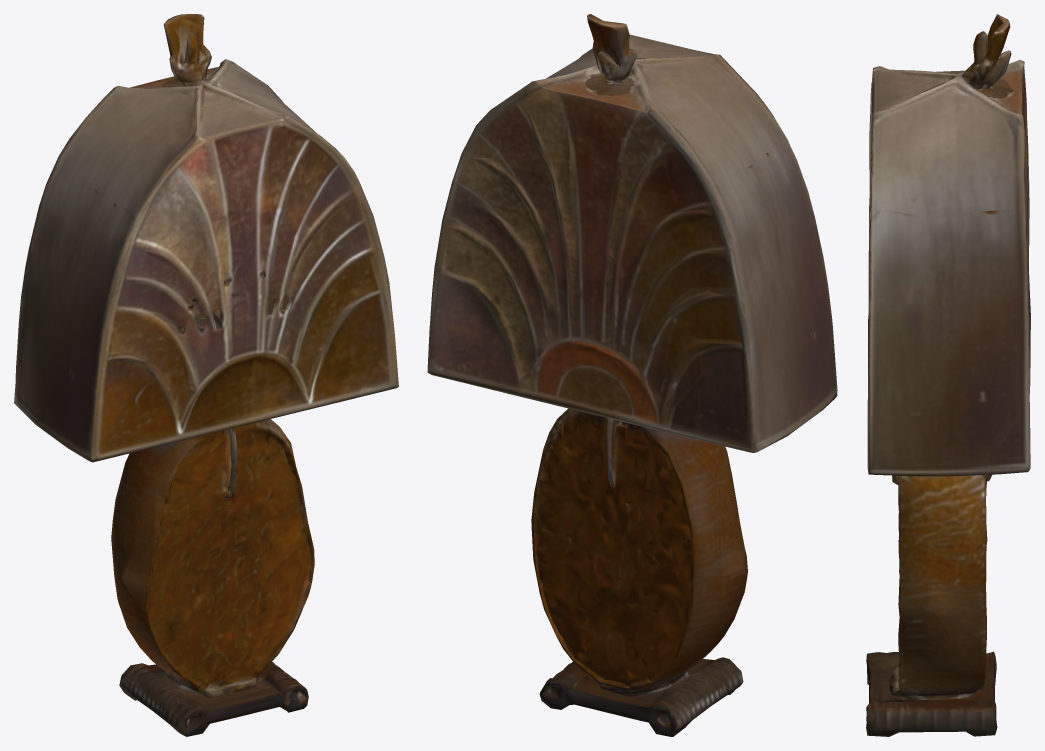
File: lamp-lux3d-mobile.glb
3 views of the same model, side by side, from view 1: azimuth 30°, elevation 25°; view 2: azimuth 150°, elevation 25°; view 3: azimuth 270°, elevation 25° (orthographic). The views are drawn at different scales.
Parts seen in each view (by area): view 1: prototype_meters_centered; view 2: prototype_meters_centered; view 3: prototype_meters_centered.
Boxes of the visible parts, left/top/right/bottom form: prototype_meters_centered: left=14, top=14, right=398, bottom=736; prototype_meters_centered: left=427, top=14, right=837, bottom=736; prototype_meters_centered: left=866, top=14, right=1030, bottom=736.
Bounding box in the file's own units: 0.2283 × 0.4496 × 0.098.
Materials: 1 (1 with a texture image).
